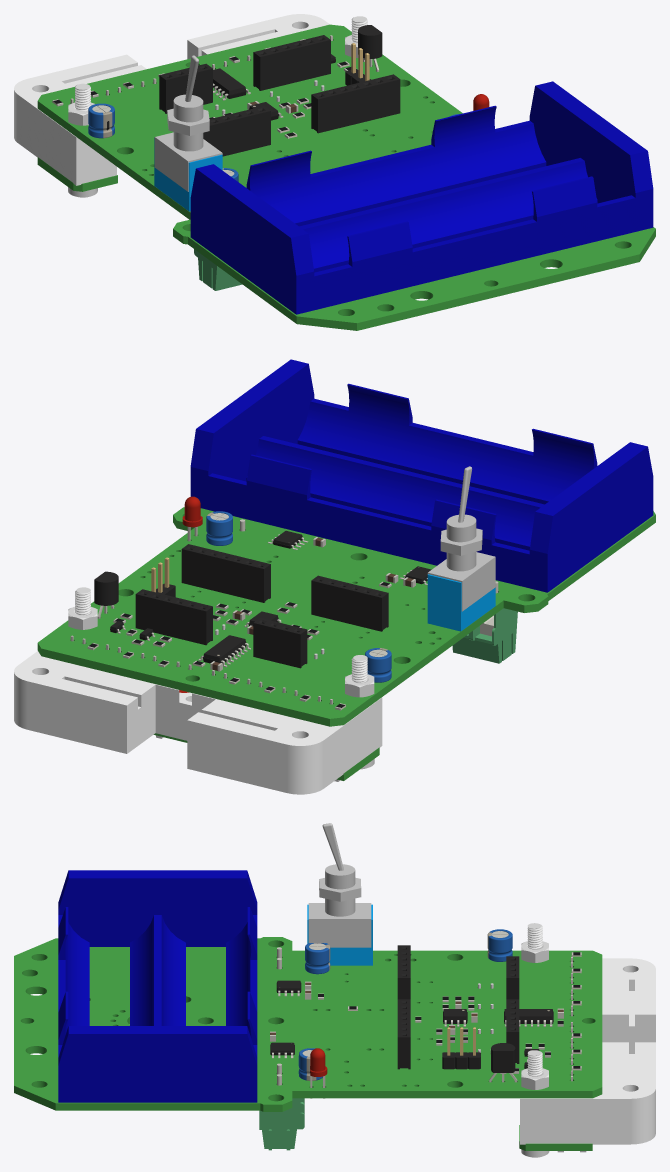
The model's file is caro.glb.
3 renders of one model, top to bottom at view 1: azimuth 30°, elevation 25°; view 2: azimuth 150°, elevation 25°; view 3: azimuth 270°, elevation 25°, orthographic. The views are drawn at different scales.
Parts seen in each view (by area): view 1: COMPOUND, _autosave-caro PCB, SOLID025, COMPOUND035, SOLID036, SOLID008, SOLID017, COMPOUND005, COMPOUND003, COMPOUND001, COMPOUND004, SOLID028 (+8 smaller); view 2: COMPOUND, _autosave-caro PCB, SOLID025, COMPOUND035, SOLID036, SOLID017, SOLID008, COMPOUND034, SOLID061, SOLID028, COMPOUND001, COMPOUND005 (+6 smaller); view 3: _autosave-caro PCB, COMPOUND, SOLID025, COMPOUND035, SOLID068, COMPOUND034, SOLID036, SOLID016, SOLID005, SOLID043, SOLID017, SOLID054 (+6 smaller).
Boxes of the visible parts, x1,y1,x2,y2 form: COMPOUND: (190, 81, 653, 314); _autosave-caro PCB: (37, 24, 655, 330); SOLID025: (14, 14, 329, 185); COMPOUND035: (154, 55, 222, 191); SOLID036: (311, 74, 400, 133); SOLID008: (253, 35, 330, 90); SOLID017: (203, 106, 270, 156); COMPOUND005: (532, 176, 597, 221); COMPOUND003: (347, 221, 412, 266); COMPOUND001: (431, 105, 496, 147); COMPOUND004: (246, 150, 311, 191); SOLID028: (159, 63, 212, 113); COMPOUND: (190, 359, 653, 592); _autosave-caro PCB: (37, 507, 655, 726); SOLID025: (14, 651, 382, 794); COMPOUND035: (427, 466, 495, 611); SOLID036: (181, 544, 270, 602); SOLID017: (311, 575, 388, 631); SOLID008: (135, 589, 212, 645); COMPOUND034: (427, 574, 495, 631); SOLID061: (452, 581, 517, 663); SOLID028: (253, 618, 307, 668); COMPOUND001: (246, 454, 311, 499); COMPOUND005: (347, 383, 412, 425); _autosave-caro PCB: (14, 937, 602, 1111); COMPOUND: (58, 870, 257, 1102); SOLID025: (520, 958, 655, 1144); COMPOUND035: (308, 823, 371, 947); SOLID068: (259, 1063, 304, 1150); COMPOUND034: (307, 904, 372, 965); SOLID036: (397, 999, 410, 1069); SOLID016: (442, 1027, 480, 1069); SOLID005: (489, 1043, 517, 1082); SOLID043: (487, 929, 512, 961); SOLID017: (397, 945, 410, 999); SOLID054: (305, 943, 330, 974).
Size of the model in its own units: 78.74 by 44.99 by 127.
